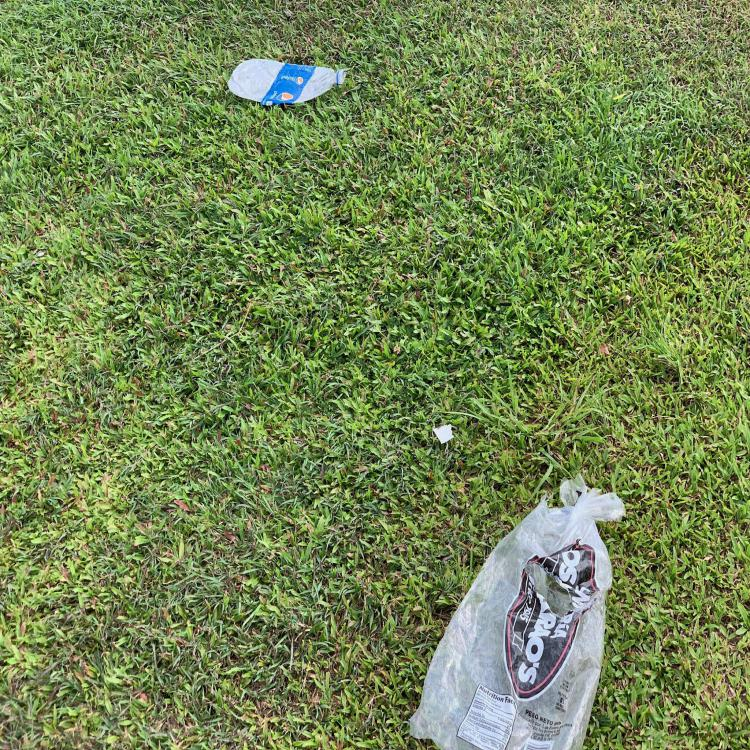Clear plastic bottle: (229, 59, 347, 105)
Plastic film: (409, 472, 626, 749)
Unlabeled litter: (432, 425, 454, 443)
